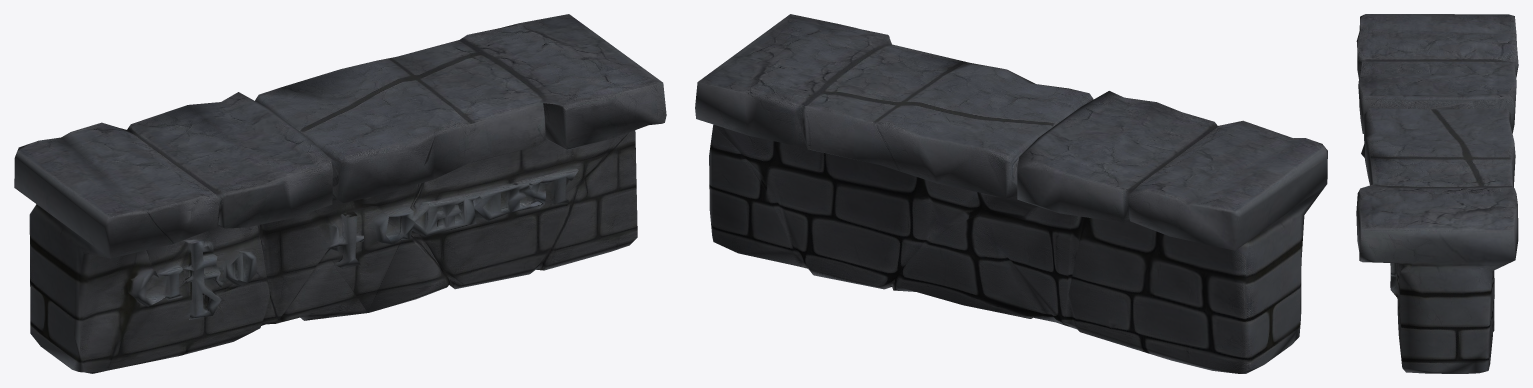
File: prop-gate-lintel.glb
3 renders of one model, left to right at view 1: azimuth 30°, elevation 25°; view 2: azimuth 150°, elevation 25°; view 3: azimuth 270°, elevation 25°, orthographic. The views are drawn at different scales.
Size of the model in its own units: 2 by 0.6563 by 0.6235.
1 material, 1 textured.
